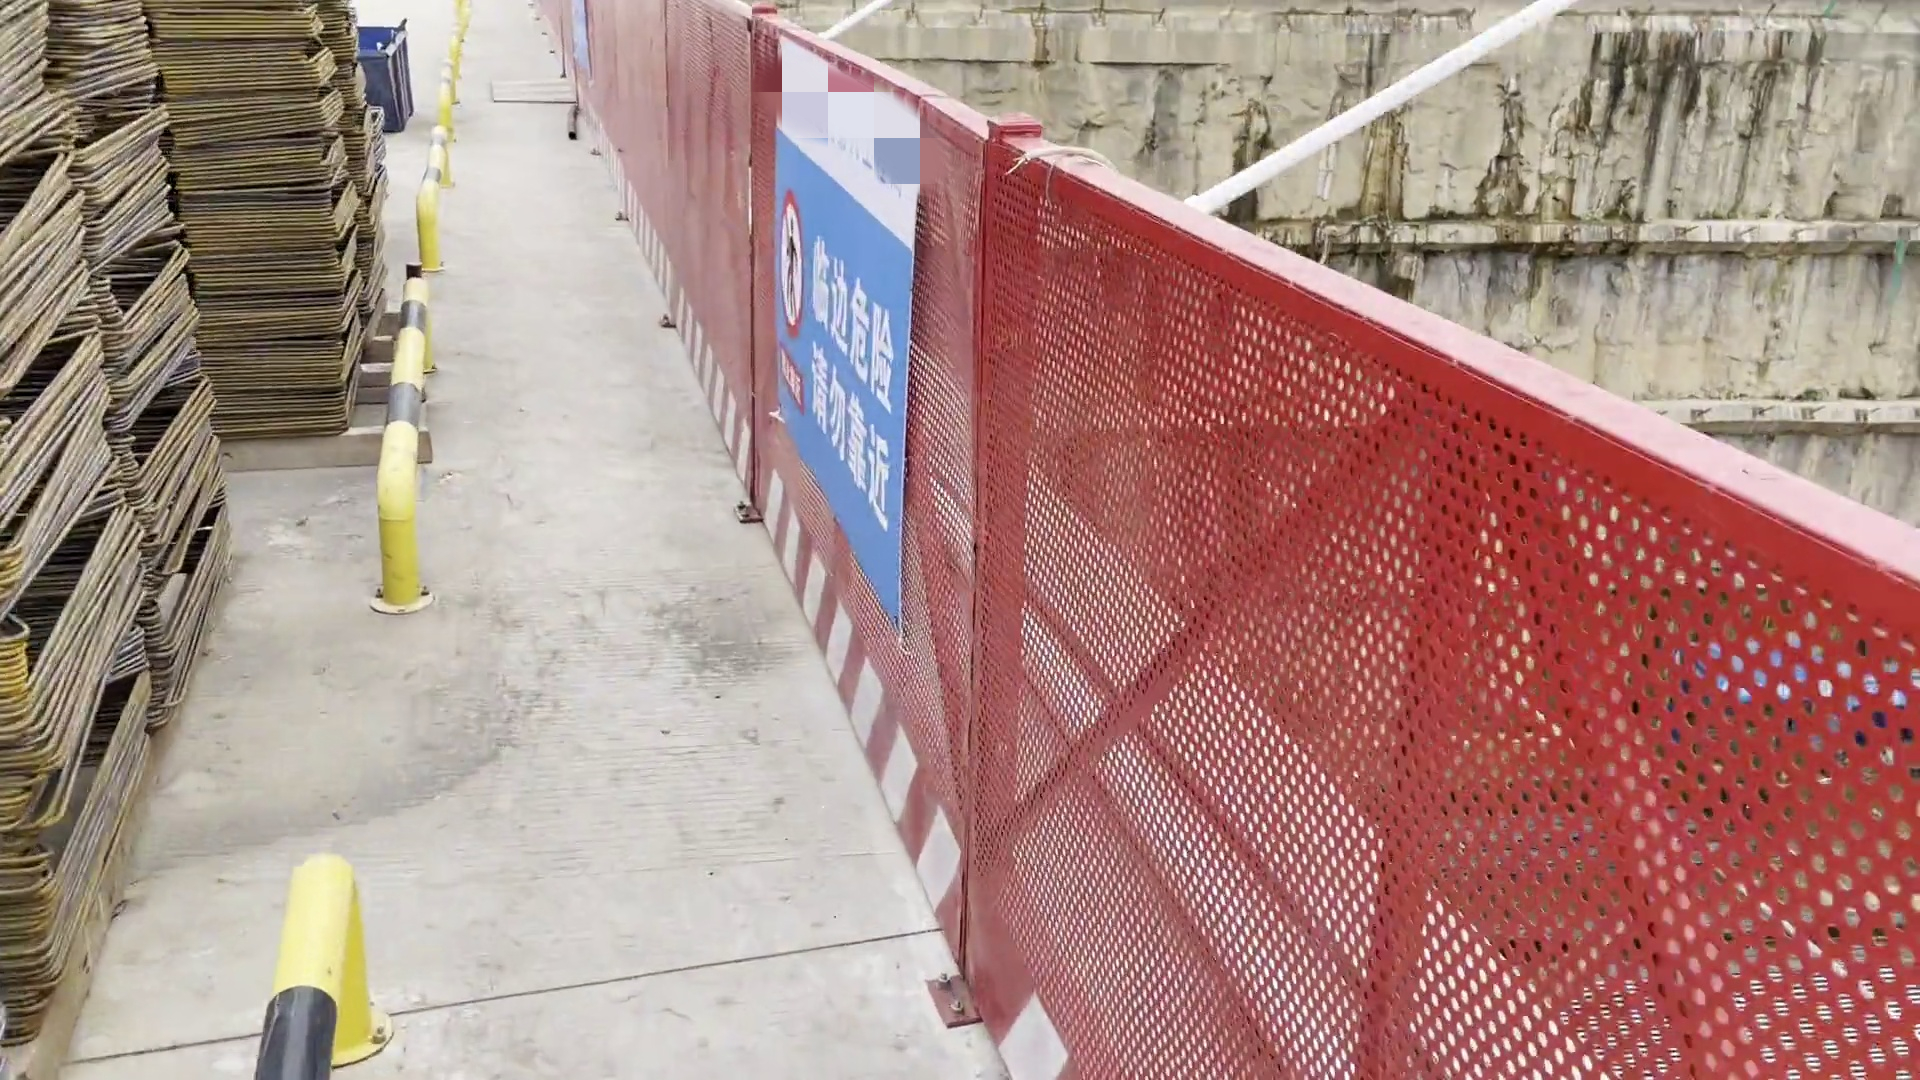fence: (894, 174, 1920, 1080), (537, 1, 1004, 816)
hopper: (349, 8, 435, 135)
slogan: (758, 40, 961, 641), (549, 4, 615, 80)
